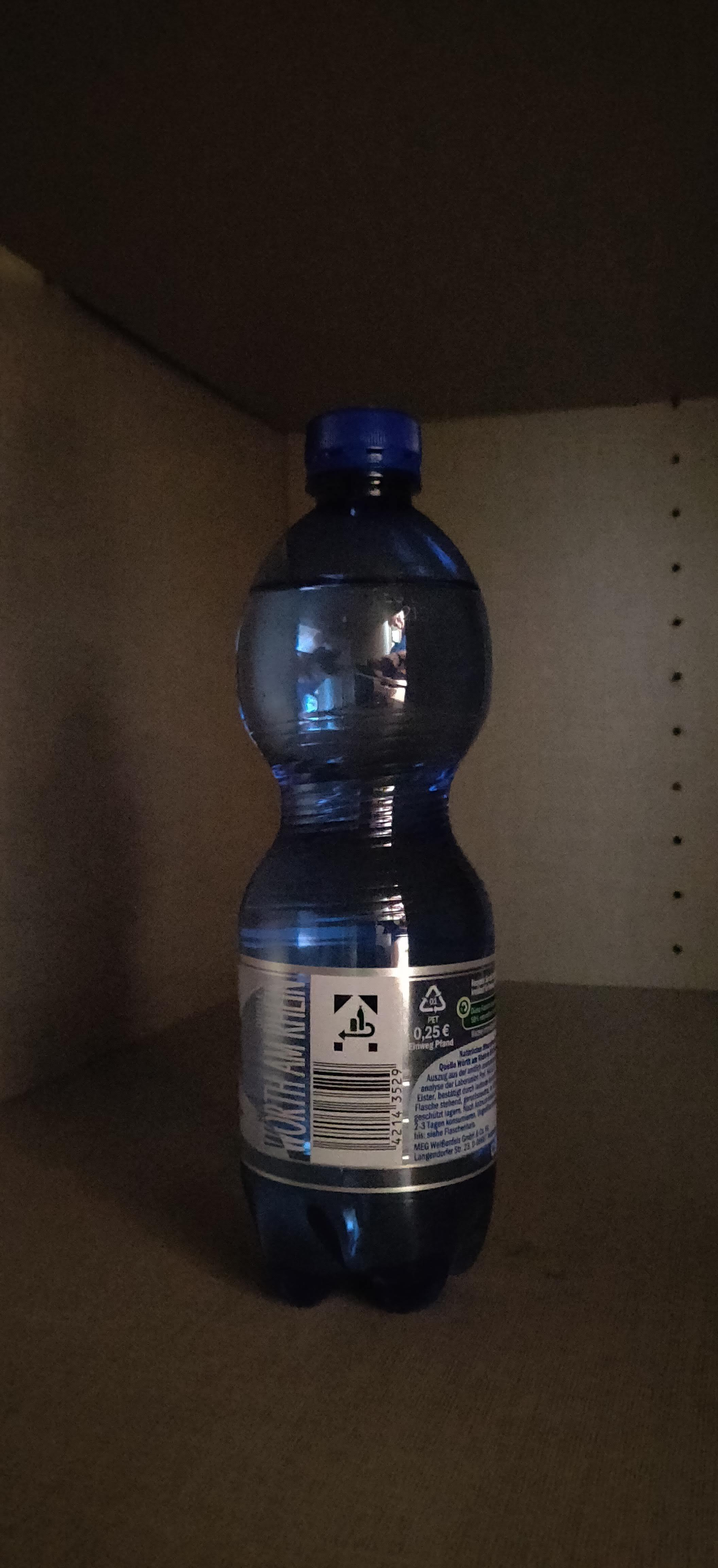bottle-plastic: (227, 399, 508, 1311)
